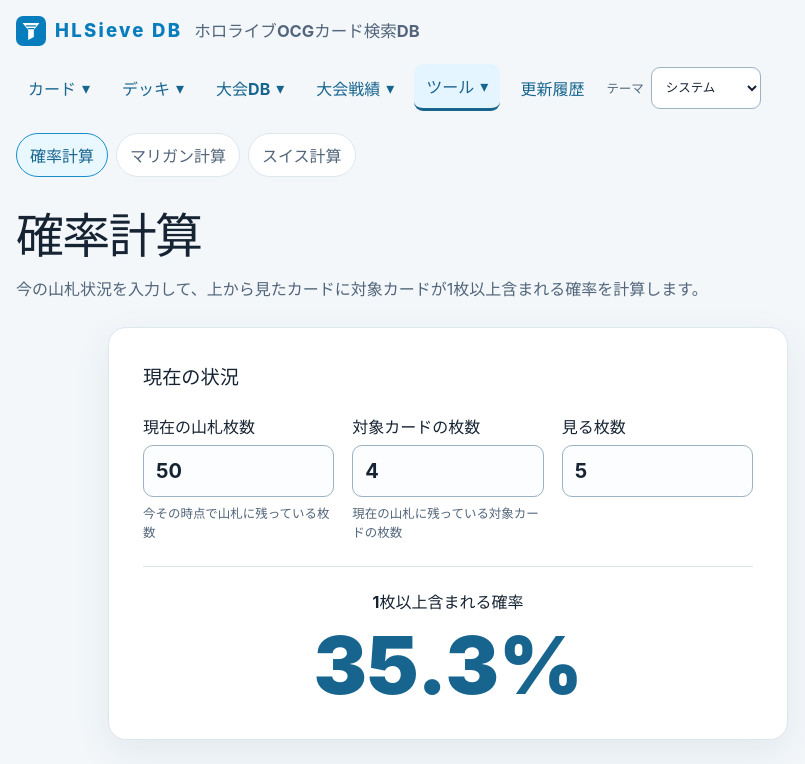
ProbabilityPage › allows free current-state inputs and recalculates immediately
Replace the text in the number field labelled "現在の山札枚数 今その時点で山札に残っている枚数" with "34" at (239, 471), box [143,445,334,497]
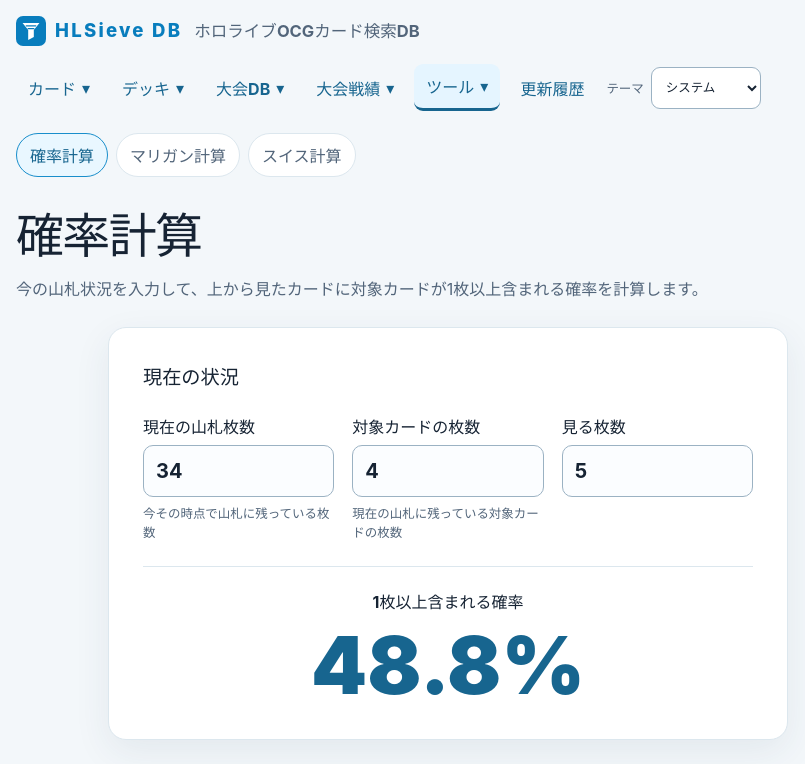
Replace the text in the number field labelled "対象カードの枚数 現在の山札に残っている対象カードの枚数" with "2" at (448, 471), box [352,445,544,497]
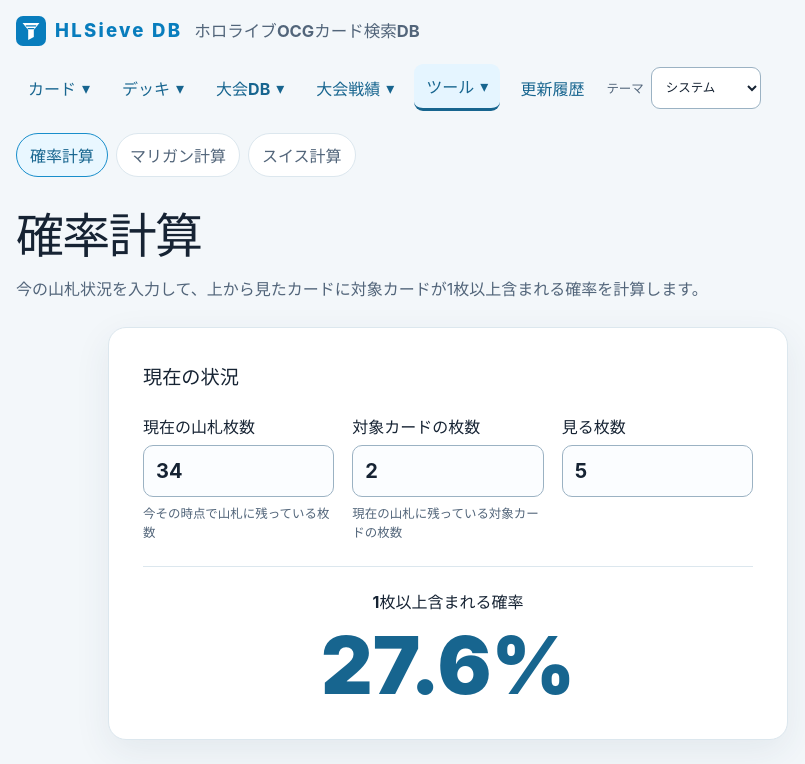
Replace the text in the number field labelled "見る枚数" with "3" at (657, 471), box [562,445,753,497]
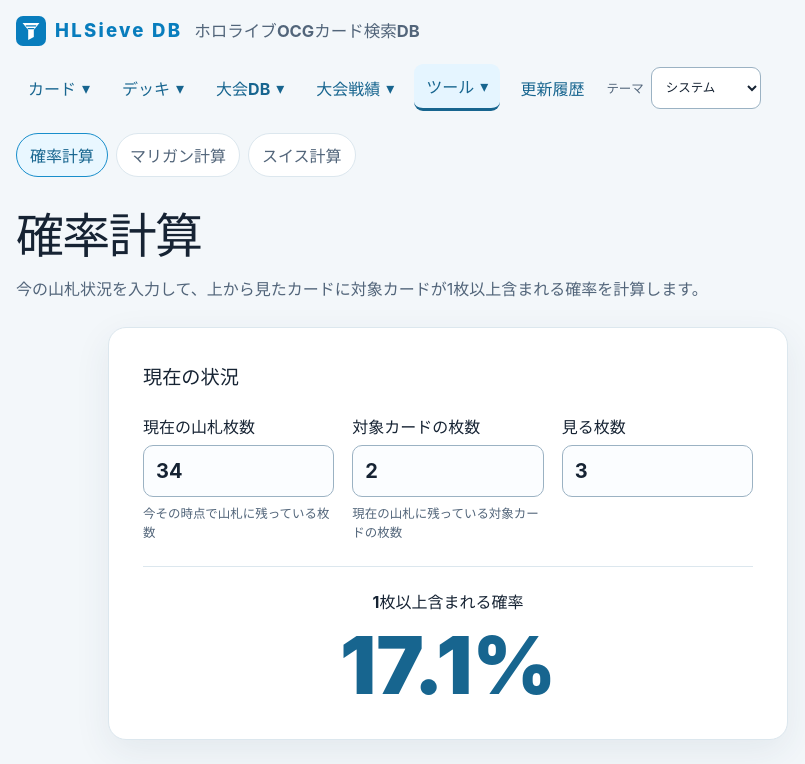
Expected: the text "17.1%" is shown, [340,616,556,713]
